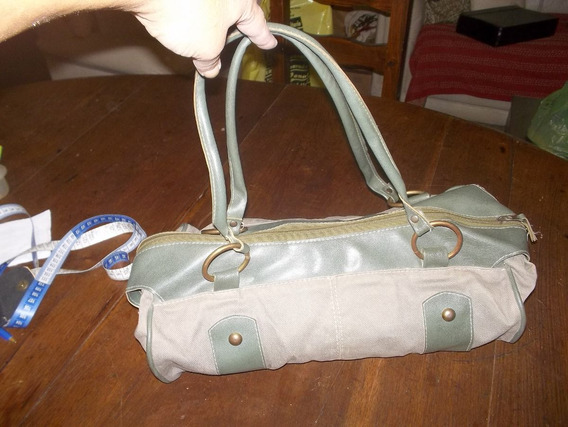cartera: (126, 20, 541, 384)
